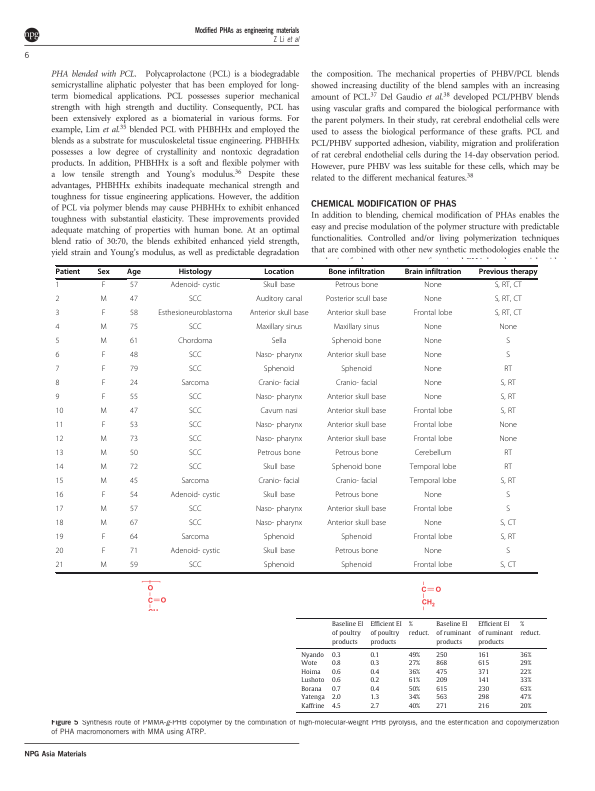borderless: (54, 264, 537, 572), (295, 616, 547, 712)
cell: (435, 621, 472, 646), (477, 621, 514, 646), (331, 621, 364, 646), (370, 621, 403, 646), (157, 309, 233, 319), (325, 295, 388, 305), (326, 309, 387, 319), (326, 351, 387, 361), (326, 393, 387, 403), (326, 407, 387, 417), (326, 421, 387, 431), (326, 435, 387, 445), (326, 505, 387, 515), (326, 519, 387, 529), (249, 309, 309, 319), (478, 268, 538, 277), (327, 268, 386, 277), (404, 268, 462, 277), (169, 281, 221, 291), (169, 491, 221, 501), (169, 547, 221, 557), (331, 337, 382, 347), (331, 463, 382, 473), (255, 295, 303, 305), (255, 323, 303, 333), (255, 351, 303, 361), (255, 393, 303, 403), (255, 421, 303, 431), (255, 435, 303, 445), (409, 463, 457, 473), (409, 477, 457, 487), (255, 505, 303, 515), (255, 519, 303, 529), (333, 323, 380, 333), (334, 281, 379, 291), (334, 449, 379, 459), (334, 491, 379, 501), (334, 547, 379, 557), (257, 379, 301, 389), (257, 449, 301, 459), (257, 477, 301, 487), (335, 379, 378, 389), (335, 477, 378, 487), (413, 309, 453, 319), (259, 407, 299, 417), (413, 407, 453, 417), (413, 421, 453, 431), (413, 435, 453, 445), (413, 505, 453, 515), (413, 533, 453, 543), (413, 561, 453, 571), (414, 449, 452, 459), (519, 621, 542, 637), (177, 337, 213, 347), (408, 621, 430, 637), (262, 281, 296, 291), (262, 463, 296, 473), (262, 491, 296, 501), (262, 547, 296, 557), (340, 365, 373, 375), (340, 533, 373, 543), (340, 561, 373, 571), (263, 365, 295, 375), (263, 533, 295, 543), (263, 561, 295, 571), (178, 268, 213, 277), (180, 379, 210, 389), (180, 477, 210, 487), (180, 533, 210, 543), (494, 281, 523, 291), (494, 295, 523, 305), (494, 309, 523, 319), (263, 268, 295, 277), (55, 268, 81, 277), (300, 702, 326, 711), (300, 676, 325, 685), (300, 694, 326, 702), (423, 281, 443, 291), (423, 295, 443, 305), (423, 323, 443, 333), (498, 323, 518, 333), (423, 337, 443, 347), (423, 351, 443, 361), (423, 365, 443, 375), (423, 379, 443, 389), (423, 393, 443, 403), (498, 421, 518, 431), (498, 435, 518, 445), (423, 491, 443, 501), (423, 519, 443, 529), (423, 547, 443, 557), (300, 651, 325, 659), (300, 685, 323, 693), (499, 519, 517, 529), (499, 561, 517, 571), (300, 668, 322, 676), (500, 379, 517, 389), (500, 393, 517, 403), (500, 407, 517, 417), (500, 477, 517, 487), (500, 533, 517, 543), (300, 659, 318, 668), (271, 337, 287, 347), (126, 268, 142, 277), (188, 295, 202, 305), (188, 323, 202, 333), (188, 351, 202, 361), (188, 365, 202, 375), (188, 393, 202, 403), (188, 407, 202, 417), (188, 421, 202, 431), (188, 435, 202, 445), (188, 449, 202, 459), (188, 463, 202, 473), (188, 505, 202, 515), (188, 519, 202, 529), (188, 561, 202, 571), (96, 268, 111, 277), (408, 659, 421, 668), (435, 659, 448, 668), (477, 659, 490, 668), (519, 659, 532, 668), (408, 676, 421, 685), (435, 676, 448, 685), (477, 676, 490, 685), (519, 676, 532, 685), (408, 702, 421, 711), (435, 702, 448, 711), (477, 702, 490, 711), (519, 702, 532, 711), (408, 651, 421, 659), (435, 651, 448, 659), (477, 651, 490, 659), (519, 651, 532, 659), (408, 668, 421, 676), (435, 668, 448, 676), (477, 668, 490, 676), (519, 668, 532, 676), (408, 685, 421, 693), (435, 685, 448, 693), (477, 685, 490, 693), (519, 685, 532, 693), (408, 694, 421, 702), (435, 694, 448, 702), (477, 694, 490, 702), (519, 694, 532, 702), (129, 281, 139, 291), (129, 295, 139, 305), (129, 309, 139, 319), (129, 323, 139, 333), (129, 337, 139, 347), (129, 351, 139, 361), (129, 365, 139, 375), (503, 365, 513, 375), (129, 379, 139, 389), (129, 393, 139, 403), (129, 407, 139, 417), (129, 421, 139, 431), (129, 435, 139, 445), (129, 449, 139, 459), (503, 449, 513, 459), (129, 463, 139, 473), (503, 463, 513, 473), (129, 477, 139, 487), (129, 491, 139, 501), (129, 505, 139, 515), (129, 519, 139, 529), (129, 533, 139, 543), (129, 547, 139, 557), (129, 561, 139, 571), (331, 659, 342, 668), (331, 676, 342, 685), (331, 702, 342, 711), (99, 295, 108, 305), (99, 323, 108, 333), (99, 337, 108, 347), (55, 407, 64, 417), (99, 407, 108, 417), (55, 421, 64, 431), (55, 435, 64, 445), (99, 435, 108, 445), (55, 449, 64, 459), (99, 449, 108, 459), (55, 463, 64, 473), (99, 463, 108, 473), (55, 477, 64, 487), (99, 477, 108, 487), (55, 491, 64, 501), (55, 505, 64, 515), (99, 505, 108, 515), (55, 519, 64, 529), (99, 519, 108, 529), (55, 533, 64, 543), (55, 547, 64, 557), (55, 561, 64, 571), (99, 561, 108, 571), (370, 659, 380, 668), (370, 676, 380, 685), (370, 702, 380, 711), (331, 651, 342, 659), (331, 668, 342, 676), (331, 685, 342, 693), (331, 694, 342, 702), (370, 651, 380, 659), (370, 668, 380, 676), (370, 685, 380, 693), (370, 694, 380, 702), (505, 337, 511, 347), (505, 351, 511, 361), (505, 491, 511, 501), (505, 505, 511, 515), (505, 547, 511, 557), (55, 281, 60, 291), (101, 281, 106, 291), (55, 295, 60, 305), (55, 309, 60, 319), (101, 309, 106, 319), (55, 323, 60, 333), (55, 337, 60, 347), (55, 351, 60, 361), (101, 351, 106, 361), (55, 365, 60, 375), (101, 365, 106, 375), (55, 379, 60, 389), (101, 379, 106, 389), (55, 393, 60, 403), (101, 393, 106, 403), (101, 421, 106, 431), (101, 491, 106, 501), (101, 533, 106, 543), (101, 547, 106, 557)
